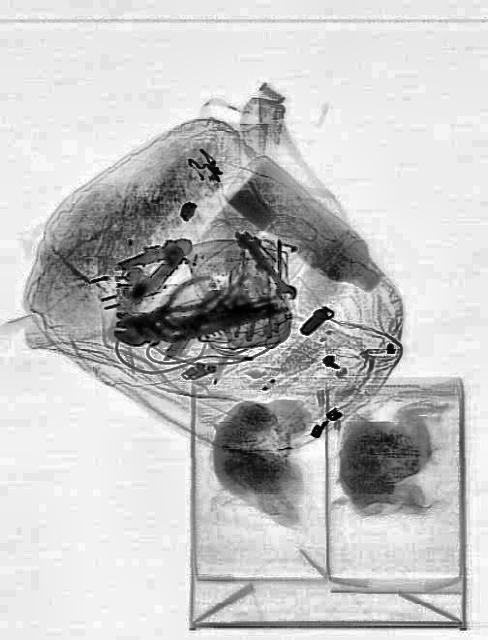Pliers: (131, 270, 221, 342)
Wrench: (236, 225, 296, 307), (112, 302, 216, 346)
